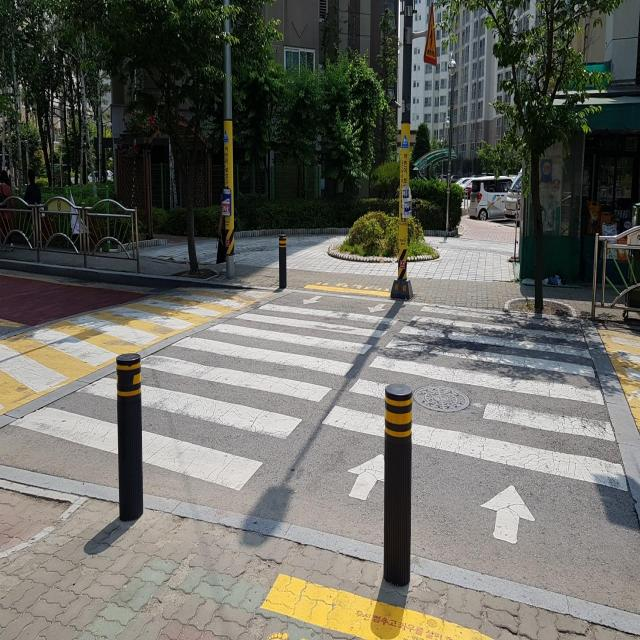횡단보도: (8, 295, 628, 547)
